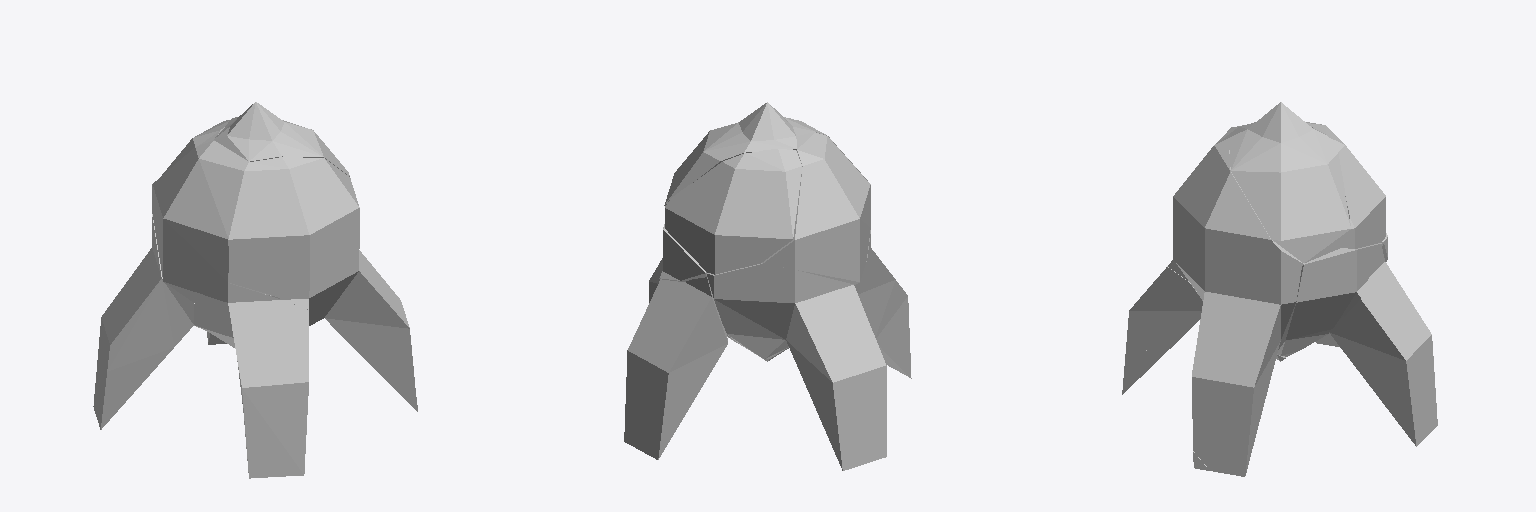
File: rocket fractured3.obj
The picture shows the model from 3 angles: view 1: azimuth 30°, elevation 25°; view 2: azimuth 150°, elevation 25°; view 3: azimuth 270°, elevation 25°; orthographic projection.
Parts seen in each view (by area): view 1: polySurface6 polySurface4 polySurface2 pSphere1_Part_11 polySurf, pSphere1_Part_11 polySurface1, polySurface7 polySurface6 polySurface4 polySurface2 pSphere1_Par, polySurface2 pSphere1_Part_11 polySurface3, polySurface4 polySurface2 pSphere1_Part_11 polySurface5; view 2: polySurface6 polySurface4 polySurface2 pSphere1_Part_11 polySurf, polySurface2 pSphere1_Part_11 polySurface3, polySurface7 polySurface6 polySurface4 polySurface2 pSphere1_Par, polySurface4 polySurface2 pSphere1_Part_11 polySurface5; view 3: polySurface6 polySurface4 polySurface2 pSphere1_Part_11 polySurf, pSphere1_Part_11 polySurface1.
Boxes of the visible parts, x1,y1,x2,y2 form: polySurface6 polySurface4 polySurface2 pSphere1_Part_11 polySurf: [162, 102, 417, 478]; pSphere1_Part_11 polySurface1: [228, 157, 359, 296]; polySurface7 polySurface6 polySurface4 polySurface2 pSphere1_Par: [152, 140, 248, 302]; polySurface2 pSphere1_Part_11 polySurface3: [93, 214, 205, 416]; polySurface4 polySurface2 pSphere1_Part_11 polySurface5: [97, 348, 173, 429]; polySurface6 polySurface4 polySurface2 pSphere1_Part_11 polySurf: [624, 102, 911, 459]; polySurface2 pSphere1_Part_11 polySurface3: [707, 263, 886, 470]; polySurface7 polySurface6 polySurface4 polySurface2 pSphere1_Par: [762, 132, 870, 284]; polySurface4 polySurface2 pSphere1_Part_11 polySurface5: [864, 394, 886, 463]; polySurface6 polySurface4 polySurface2 pSphere1_Part_11 polySurf: [1122, 102, 1437, 476]; pSphere1_Part_11 polySurface1: [1173, 127, 1303, 271].
Bounding box in the file's own units: 7.13 × 7.66 × 7.1.